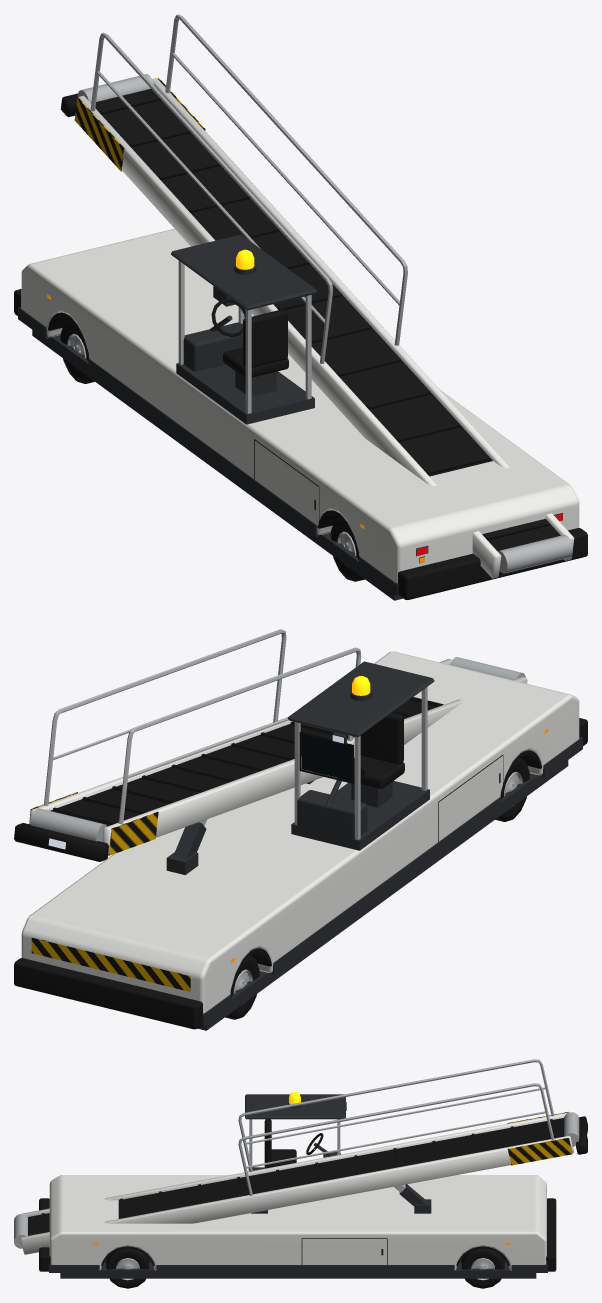
The model's file is belt_loader.glb.
3 views of the same model, one above another, from view 1: azimuth 30°, elevation 25°; view 2: azimuth 150°, elevation 25°; view 3: azimuth 270°, elevation 25° (orthographic). The views are drawn at different scales.
Visible parts, largest first — view 1: Body, Lift, Wheels; view 2: Body, Lift, Wheels; view 3: Body, Lift, Wheels.
Boxes of the visible parts, box(x1,y1,x2,y2) form: Body: box(14, 228, 587, 600); Lift: box(60, 14, 574, 578); Wheels: box(60, 320, 364, 581); Body: box(14, 651, 587, 1030); Lift: box(14, 629, 527, 861); Wheels: box(225, 757, 529, 1019); Body: box(39, 1092, 556, 1278); Lift: box(14, 1059, 587, 1254); Wheels: box(106, 1248, 504, 1288).
Size of what is drawn, in the model's own units: 2 by 3.09 by 8.08.
8 materials, 2 textured.
